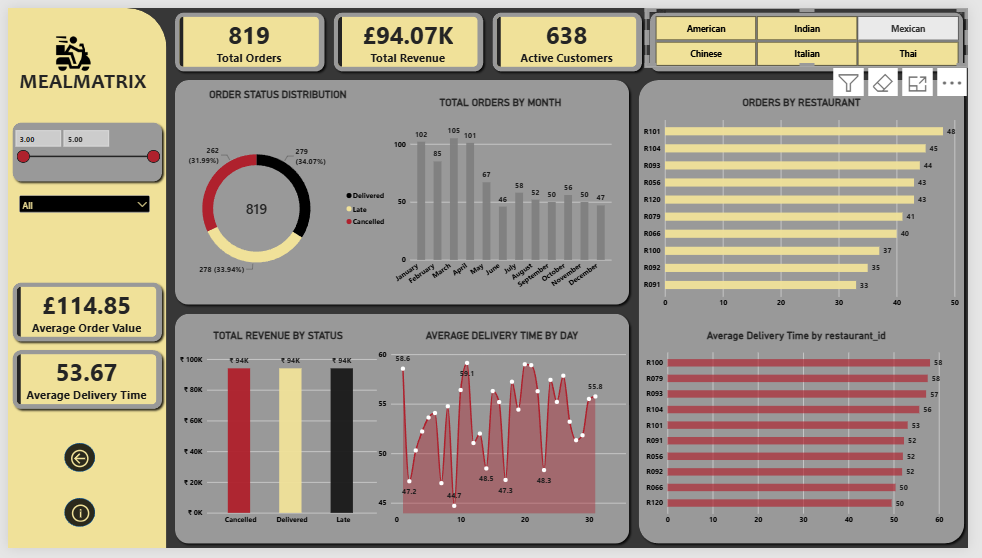

The page's visual inventory and layout, read from the dashboard file:
{"tool":"powerbi","page":{"name":"Page 1","canvas":[1920,1080],"ordinal":0},"visuals":[{"type":"shape","box":[0,0,317,1080.6],"z":0},{"type":"shape","box":[0,220.2,317,135.8],"z":1000},{"type":"shape","box":[325.2,0,317,135.8],"z":2000},{"type":"shape","box":[959.2,0,317,135.8],"z":3000},{"type":"shape","box":[0,675.1,317,135.8],"z":4000},{"type":"shape","box":[0,539.3,317,135.8],"z":5000},{"type":"shape","box":[642.2,0,317,135.8],"z":6000},{"type":"shape","box":[1276.2,0,644.3,135.8],"z":7000},{"type":"shape","box":[325.2,135.8,926.2,467.2],"z":8000},{"type":"shape","box":[325.2,603.1,926.2,477.5],"z":9000},{"type":"shape","box":[1251.5,135.8,669,944.8],"z":10000},{"type":"image","box":[88.5,22.6,86.4,137.9],"z":11000},{"type":"textbox","box":[22.6,119.4,286.1,88.5],"z":12000},{"type":"cardVisual","fields":{"Data":["_orders_medium csv.Total Orders"]},"box":[343.7,18.5,279.9,100.9],"z":13000},{"type":"cardVisual","fields":{"Data":["_orders_medium csv.Average Order Value"]},"box":[18.5,557.8,279.9,100.9],"z":14000},{"type":"cardVisual","fields":{"Data":["_orders_medium csv.Total Revenue"]},"box":[660.7,16.5,279.9,100.9],"z":15000},{"type":"cardVisual","fields":{"Data":["_orders_medium csv.Active Customers"]},"box":[977.7,18.5,279.9,100.9],"z":16000},{"type":"cardVisual","fields":{"Data":["_orders_medium csv.Average Delivery Time"]},"box":[18.5,691.6,279.9,100.9],"z":17000},{"type":"donutChart","title":"ORDER STATUS DISTRIBUTION","fields":{"Category":["_orders_medium csv.status"],"Y":["_orders_medium csv.Total Orders"]},"box":[317,160.5,444.6,442.5],"z":18000},{"type":"clusteredColumnChart","title":"TOTAL ORDERS BY MONTH","fields":{"Category":["_orders_medium csv.order_time.Variation.Date Hierarchy.Month"],"Y":["_orders_medium csv.Total Orders"]},"box":[761.6,177,444.6,397.3],"z":19000},{"type":"barChart","title":"ORDERS BY RESTAURANT","fields":{"Category":["restaurants csv.restaurant_id"],"Y":["_orders_medium csv.Total Orders"]},"box":[1270,177,634,426.1],"z":20000},{"type":"clusteredColumnChart","title":"TOTAL REVENUE BY STATUS","fields":{"Category":["_orders_medium csv.status"],"Y":["_orders_medium csv.Total Revenue"]},"box":[343.7,642.2,395.2,395.2],"z":21000},{"type":"lineChart","title":"AVERAGE DELIVERY TIME BY DAY","fields":{"Category":["_orders_medium csv.order_time.Variation.Date Hierarchy.Day"],"Y":["_orders_medium csv.Average Delivery Time"]},"box":[738.9,642.2,496.1,395.2],"z":22000},{"type":"clusteredBarChart","fields":{"Category":["restaurants csv.restaurant_id"],"Y":["_orders_medium csv.Average Delivery Time"]},"box":[1276.2,642.2,603.1,395.2],"z":23000},{"type":"slicer","fields":{"Values":["restaurants csv.cuisine"]},"box":[1276.2,0,644.3,117.3],"z":24000},{"type":"slicer","fields":{"Values":["restaurants csv.rating"]},"box":[8.2,238.8,300,300],"z":25000},{"type":"slicer","fields":{"Values":["restaurants csv.city"]},"box":[18.5,370.5,271.7,300.5],"z":26000},{"type":"shape","box":[113.2,870.7,61.7,57.6],"z":27000},{"type":"shape","box":[113.2,979.8,61.7,57.6],"z":28000},{"type":"actionButton","box":[94.7,988,100,40],"z":29000},{"type":"actionButton","box":[76.2,870.7,137.9,61.7],"z":30000}]}

Visuals, with their boxes in screenshot pixels (x1, y1, x2, y2), scaled from the page's 1920x1080 canvas onto the 982x558 screenshot:
shape: left=0, top=0, right=162, bottom=557
shape: left=0, top=114, right=162, bottom=184
shape: left=166, top=0, right=328, bottom=70
shape: left=491, top=0, right=653, bottom=70
shape: left=0, top=349, right=162, bottom=419
shape: left=0, top=279, right=162, bottom=349
shape: left=328, top=0, right=491, bottom=70
shape: left=653, top=0, right=981, bottom=70
shape: left=166, top=70, right=640, bottom=312
shape: left=166, top=312, right=640, bottom=557
shape: left=640, top=70, right=981, bottom=557
image: left=45, top=12, right=89, bottom=83
textbox: left=12, top=62, right=158, bottom=107
cardVisual - _orders_medium csv.Total Orders: left=176, top=10, right=319, bottom=62
cardVisual - _orders_medium csv.Average Order Value: left=9, top=288, right=153, bottom=340
cardVisual - _orders_medium csv.Total Revenue: left=338, top=9, right=481, bottom=61
cardVisual - _orders_medium csv.Active Customers: left=500, top=10, right=643, bottom=62
cardVisual - _orders_medium csv.Average Delivery Time: left=9, top=357, right=153, bottom=409
"ORDER STATUS DISTRIBUTION" donutChart: left=162, top=83, right=390, bottom=312
"TOTAL ORDERS BY MONTH" clusteredColumnChart: left=390, top=91, right=617, bottom=297
"ORDERS BY RESTAURANT" barChart: left=650, top=91, right=974, bottom=312
"TOTAL REVENUE BY STATUS" clusteredColumnChart: left=176, top=332, right=378, bottom=536
"AVERAGE DELIVERY TIME BY DAY" lineChart: left=378, top=332, right=632, bottom=536
clusteredBarChart - restaurants csv.restaurant_id x _orders_medium csv.Average Delivery Time: left=653, top=332, right=961, bottom=536
slicer - restaurants csv.cuisine: left=653, top=0, right=981, bottom=61
slicer - restaurants csv.rating: left=4, top=123, right=158, bottom=278
slicer - restaurants csv.city: left=9, top=191, right=148, bottom=347
shape: left=58, top=450, right=89, bottom=480
shape: left=58, top=506, right=89, bottom=536
actionButton: left=48, top=510, right=100, bottom=531
actionButton: left=39, top=450, right=110, bottom=482
